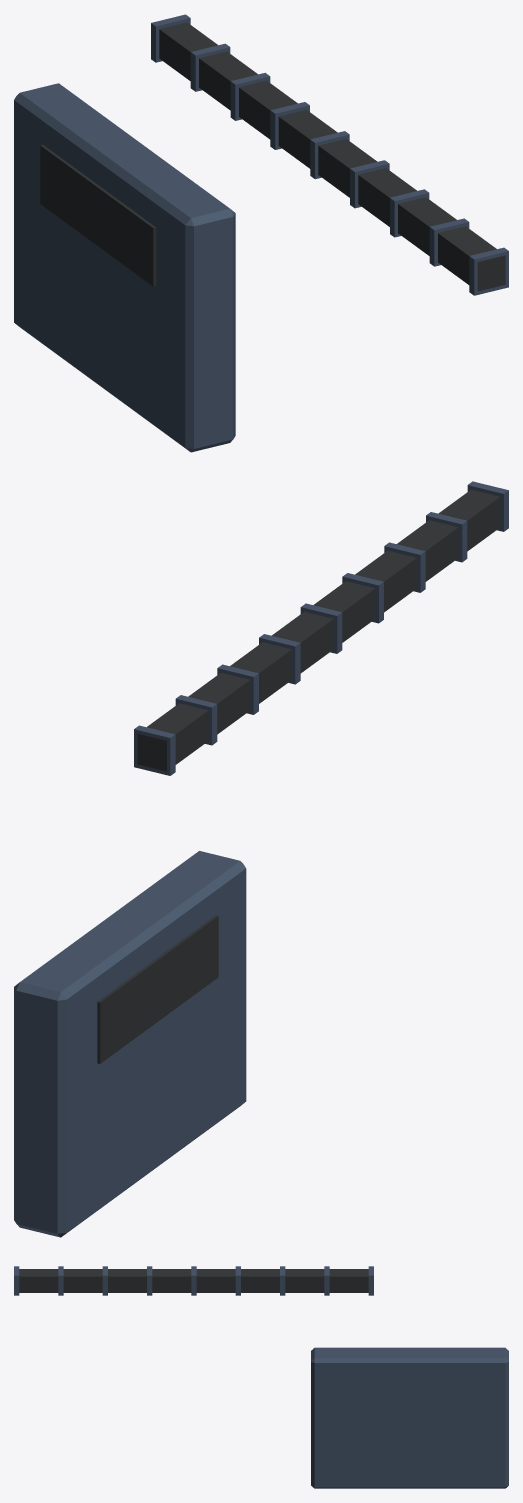
File: kz6_power.obj
The picture shows the model from 3 angles, top to bottom: view 1: azimuth 30°, elevation 25°; view 2: azimuth 150°, elevation 25°; view 3: azimuth 270°, elevation 25°; orthographic projection. The views are drawn at different scales.
Parts seen in each view (by area): view 1: kz6_power; view 2: kz6_power; view 3: kz6_power.
Boxes of the visible parts, bbox=[...] form: kz6_power: bbox=[14, 14, 508, 452]; kz6_power: bbox=[14, 481, 508, 1237]; kz6_power: bbox=[14, 1266, 508, 1488].
Bounding box in the file's own units: 0.202 × 1.32 × 2.75.
